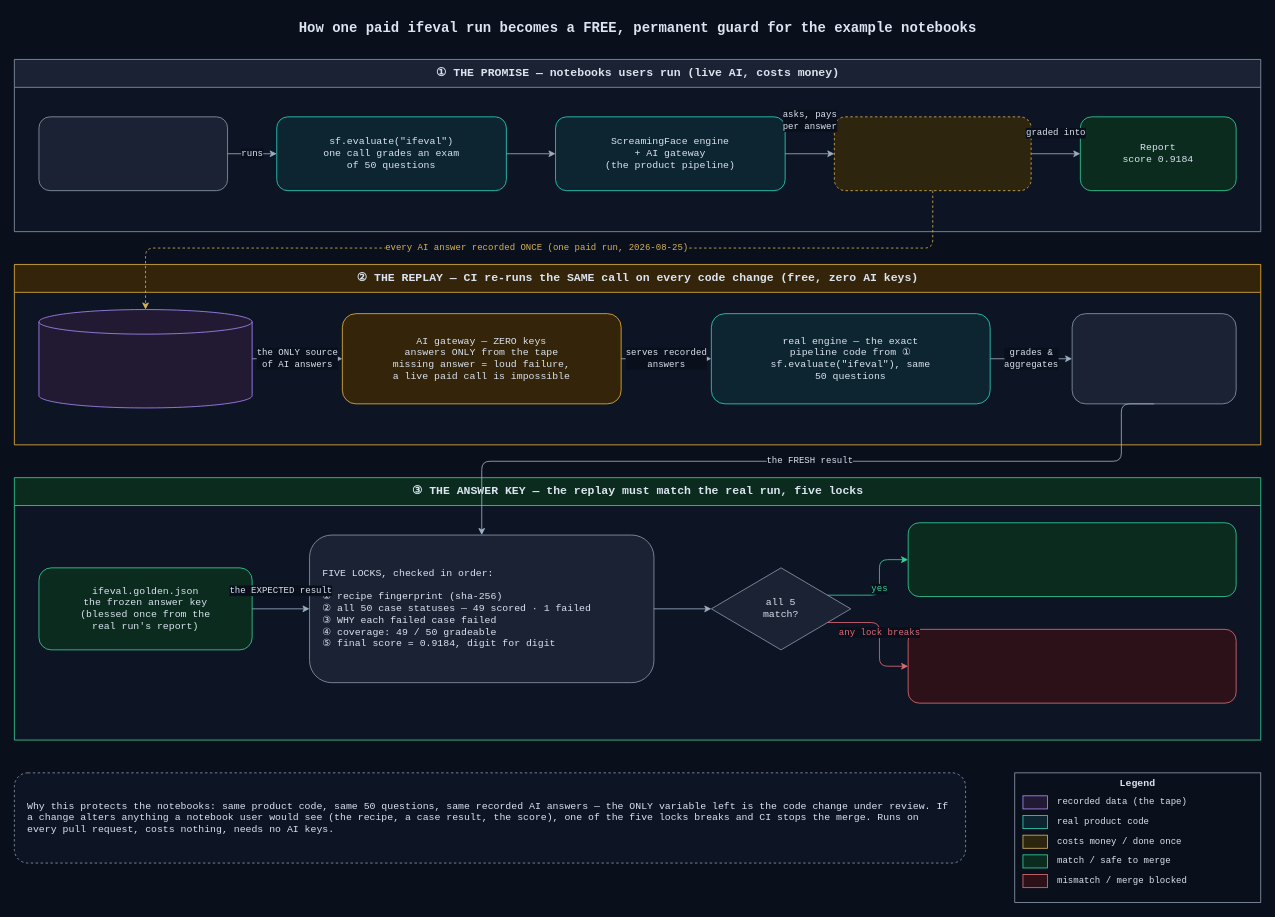
The diagram is 1275 pixels wide and 917 high, and some of its shapes have lost their labels. The shapes that lost their labels are listed below. From the top down, each one's box as (x1, y1, x2, y2) in pixels, then its label:
(38, 116, 228, 191): examples/*.ipynb the user-facing notebooks
(834, 116, 1031, 191): real AI models 💵 2 panel models + 1 judge (corrective loop, ≤3 rounds)
(38, 309, 252, 408): ifeval.snapshot.gz THE TAPE 177 recorded AI answers sealed with a fingerprint
(1071, 313, 1236, 404): fresh Report score + 50 case results + failure reasons
(907, 522, 1236, 597): CI GREEN ✓ the pipeline behaves exactly as the notebooks expect — safe to merge
(907, 629, 1236, 703): CI RED ✗ the merge is blocked BEFORE the change can break a user's notebook
